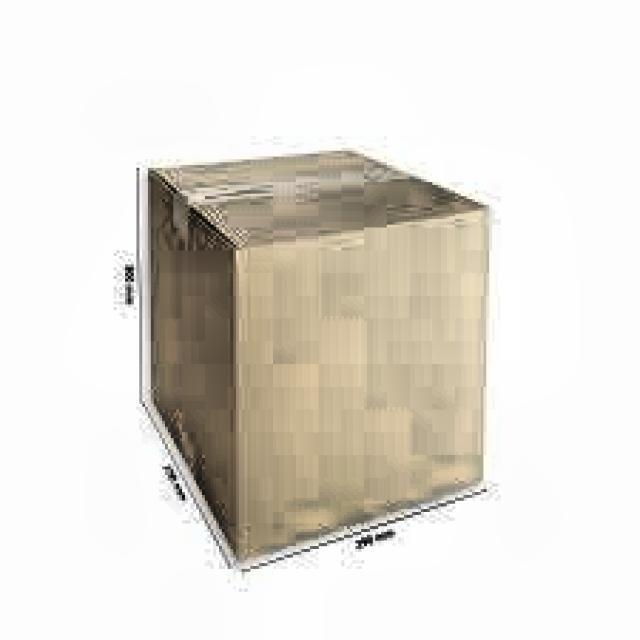cardboard: (134, 145, 492, 569)
